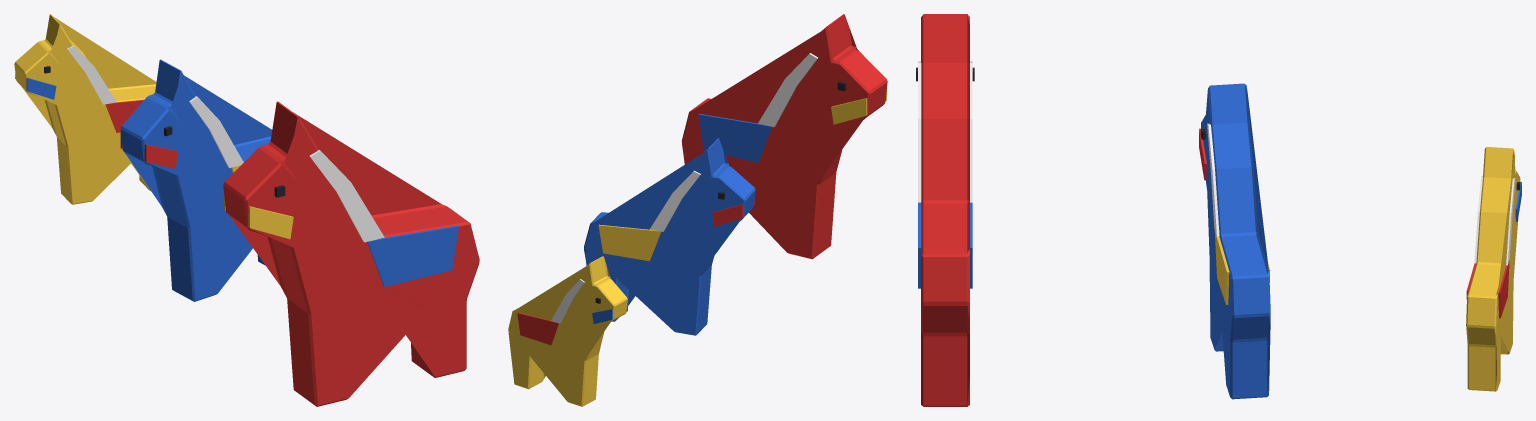
The model's file is dala-horses-1x2.glb.
3 views of the same model, side by side, from view 1: azimuth 30°, elevation 25°; view 2: azimuth 150°, elevation 25°; view 3: azimuth 270°, elevation 25° (orthographic). The views are drawn at different scales.
Visible parts, largest first — view 1: dala-horses-1x2; view 2: dala-horses-1x2; view 3: dala-horses-1x2.
Part boxes in pixels (bbox=[...]): dala-horses-1x2: bbox=[14, 14, 479, 406]; dala-horses-1x2: bbox=[508, 14, 887, 406]; dala-horses-1x2: bbox=[916, 14, 1521, 406].
Bounding box in the file's own units: 0.8913 × 1.07 × 1.9.
1 material, 1 textured.
